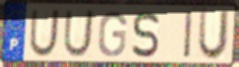G: (96, 10, 128, 58)
I: (183, 10, 194, 60)
S: (130, 10, 162, 59)
U: (196, 8, 232, 62), (61, 9, 96, 60), (27, 9, 62, 59)
